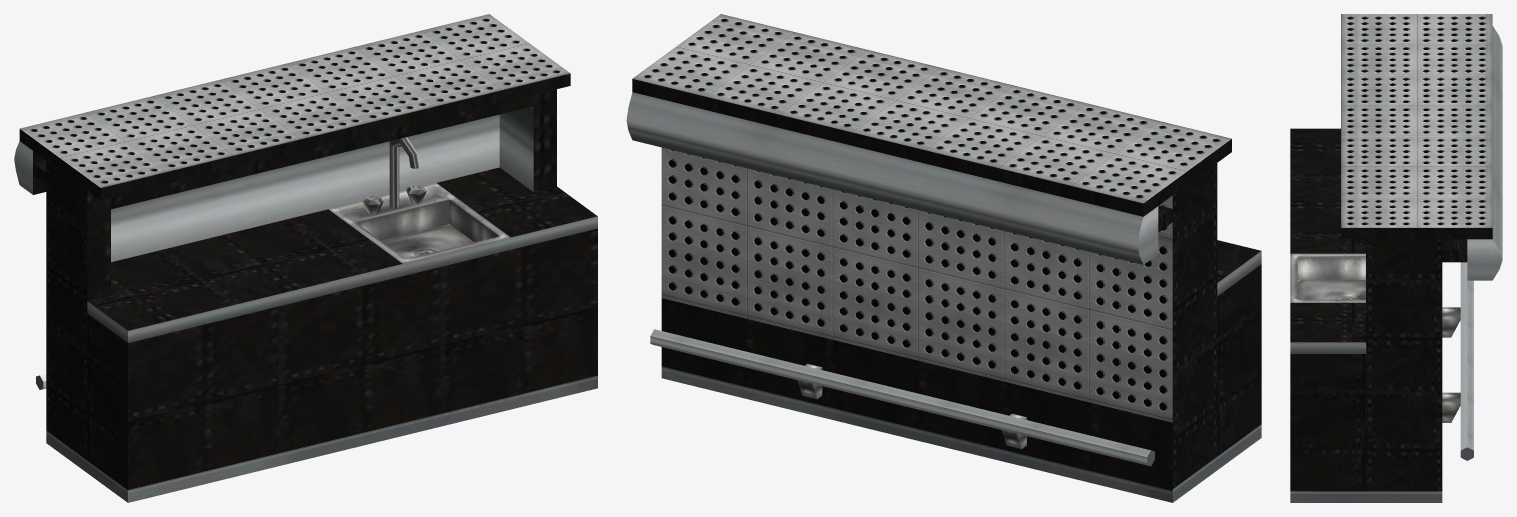
Rendered from bar_counter_metal_sink.fbx.
The picture shows the model from 3 angles, left to right: view 1: azimuth 30°, elevation 25°; view 2: azimuth 150°, elevation 25°; view 3: azimuth 270°, elevation 25°; orthographic projection. The views are drawn at different scales.
Parts seen in each view (by area): view 1: mesh_0, mesh_1; view 2: mesh_1, mesh_0; view 3: mesh_0, mesh_1, mesh_2.
Boxes of the visible parts, x1,y1,x2,y2 form: mesh_0: (14,73,597,502); mesh_1: (20,14,570,187); mesh_1: (632,14,1231,422); mesh_0: (626,79,1261,502); mesh_0: (1290,26,1502,502); mesh_1: (1341,14,1492,227); mesh_2: (1442,239,1467,262).
Bounding box in the file's own units: 200 × 120 × 84.
2 materials, 2 textured.
